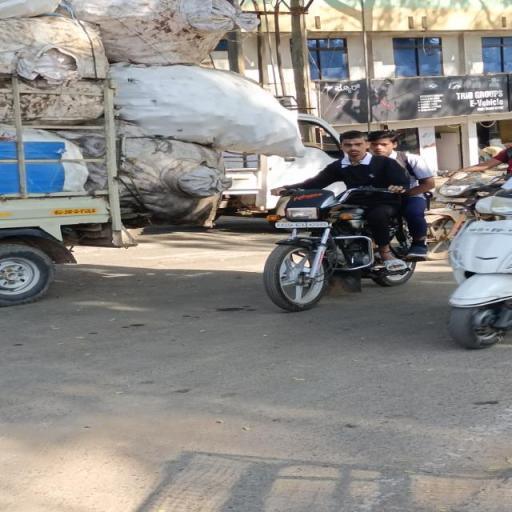bike: (253, 124, 435, 315)
withouthelmet: (367, 132, 397, 158), (340, 131, 367, 155)
